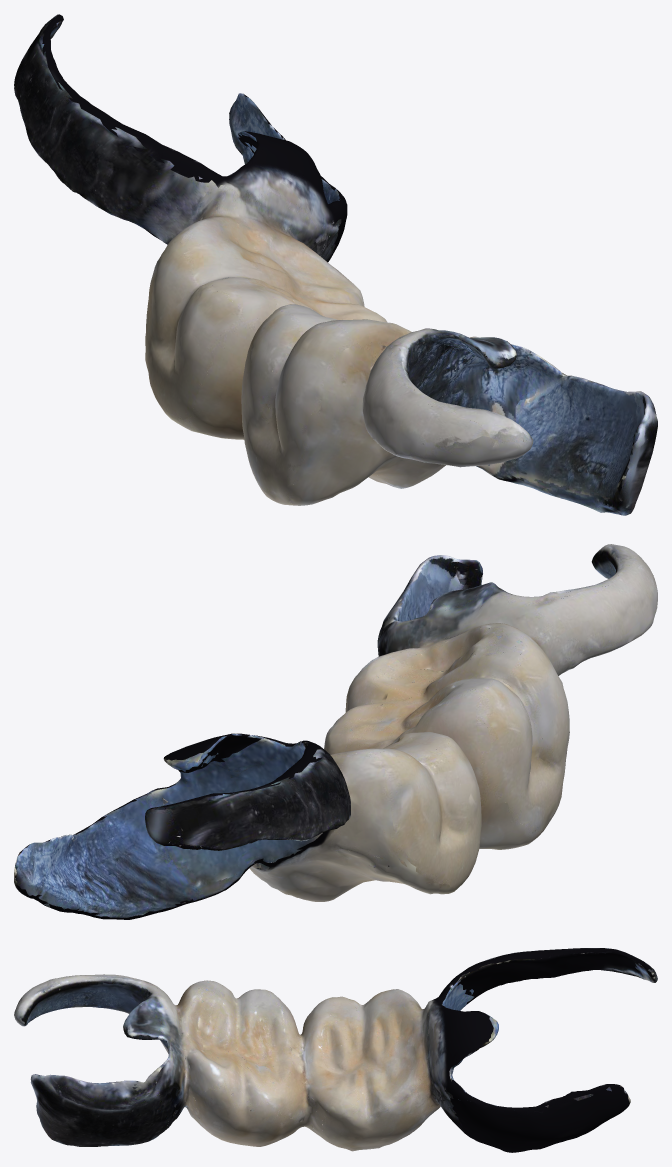
File: maryland pfm3glb.glb
The picture shows the model from 3 angles, top to bottom: view 1: azimuth 30°, elevation 25°; view 2: azimuth 150°, elevation 25°; view 3: azimuth 270°, elevation 25°; orthographic projection. The views are drawn at different scales.
Parts seen in each view (by area): view 1: maryland pfm LowerJawScan; view 2: maryland pfm LowerJawScan; view 3: maryland pfm LowerJawScan.
Part boxes in pixels (left/top/right/bottom): maryland pfm LowerJawScan: left=14, top=14, right=657, bottom=515; maryland pfm LowerJawScan: left=14, top=544, right=657, bottom=919; maryland pfm LowerJawScan: left=14, top=948, right=657, bottom=1152.
Bounding box in the file's own units: 1.11 × 0.9818 × 3.26.
1 material, 1 textured.
